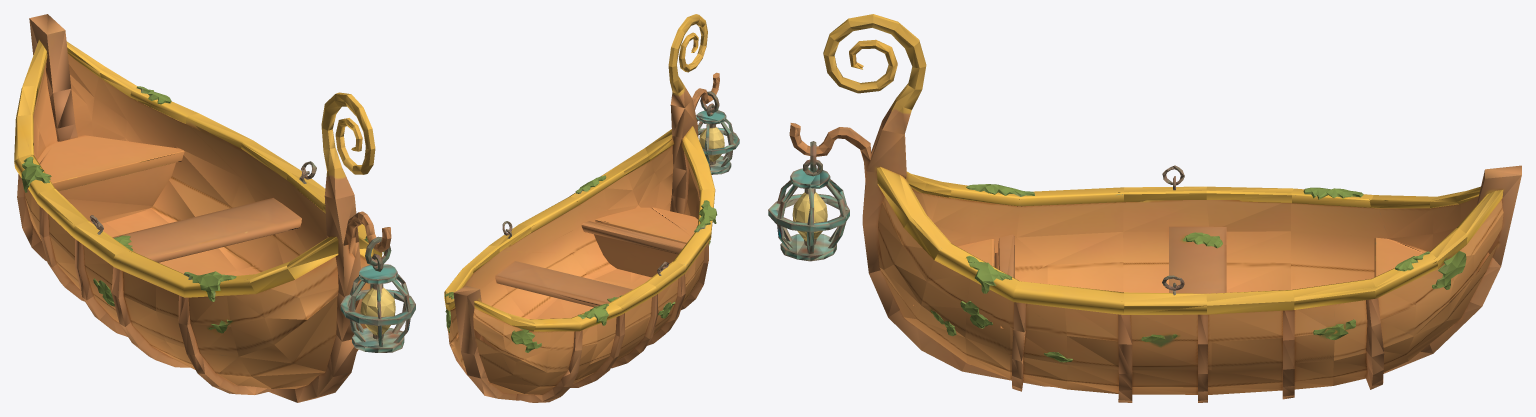
The model's file is barque.glb.
The picture shows the model from 3 angles, left to right: view 1: azimuth 30°, elevation 25°; view 2: azimuth 150°, elevation 25°; view 3: azimuth 270°, elevation 25°; orthographic projection. The views are drawn at different scales.
Parts seen in each view (by area): view 1: Coque, Lanterne; view 2: Coque, Lanterne; view 3: Coque, Lanterne.
Part boxes in pixels (x1,y1,x2,y2): Coque: [14, 14, 384, 402]; Lanterne: [340, 211, 415, 352]; Coque: [444, 14, 717, 402]; Lanterne: [692, 72, 739, 174]; Coque: [823, 14, 1521, 402]; Lanterne: [768, 123, 870, 261].
Size of the model in its own units: 1.4 by 2.06 by 3.8.
1 material, 1 textured.
